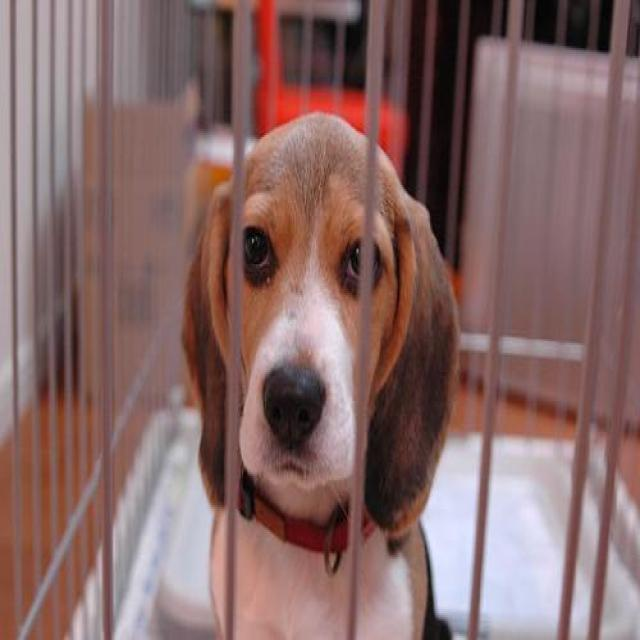beagle: (175, 108, 456, 636)
